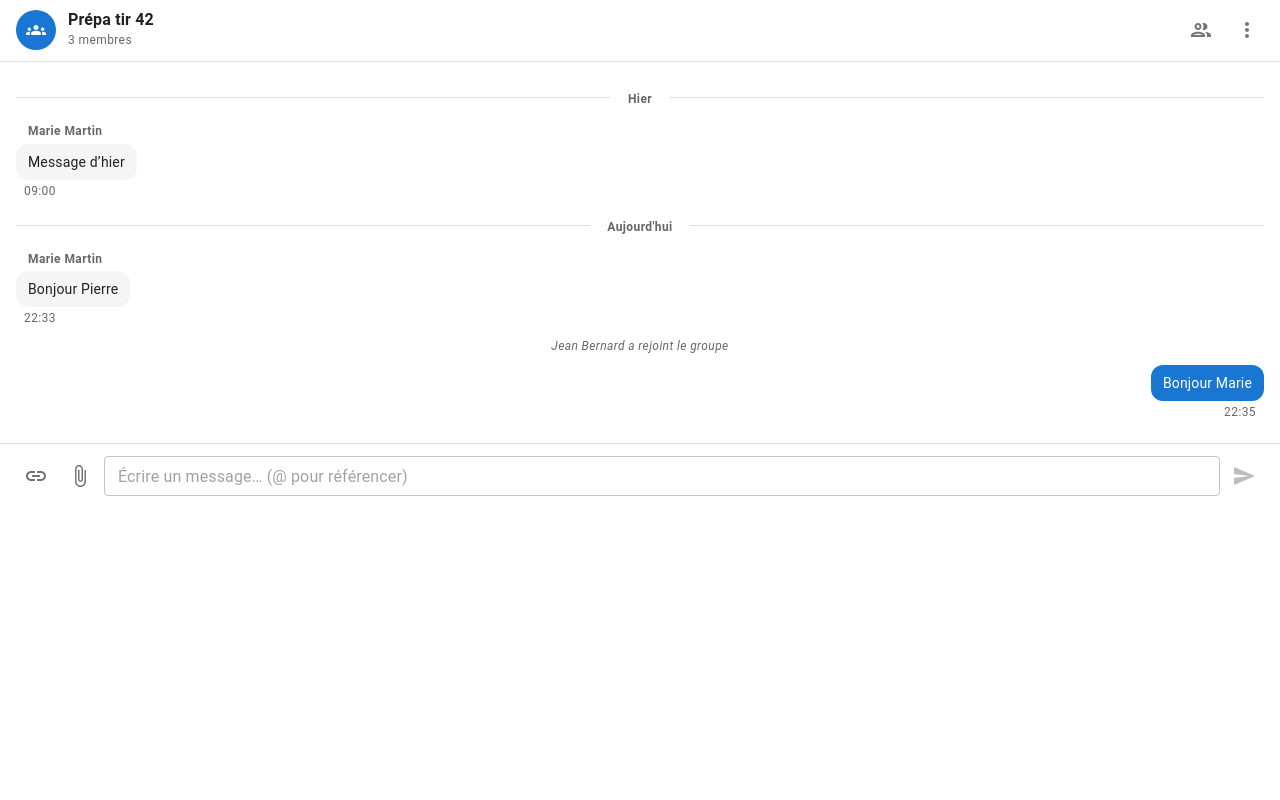
ConversationThread › annuler la suppression ne supprime rien
Click the button named "Actions de la conversation": (1247, 30) [1230,13,1264,47]
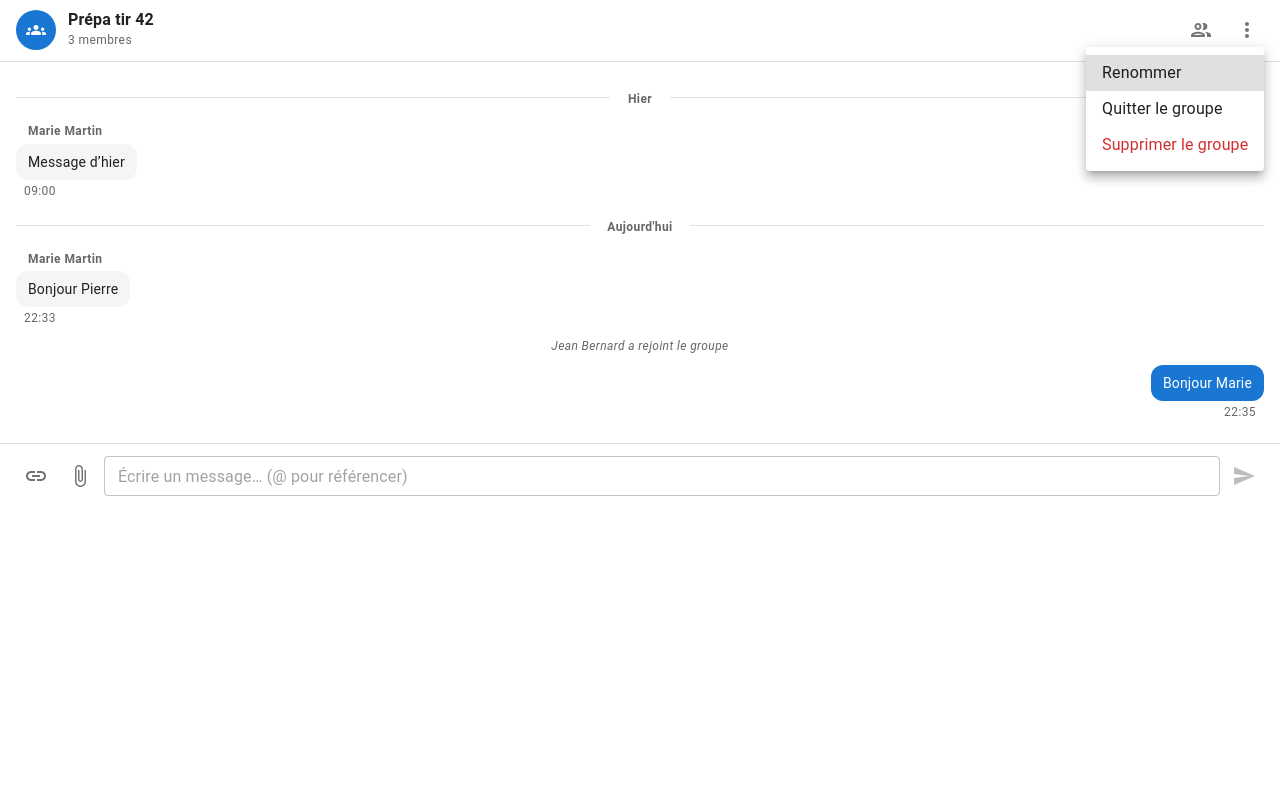
Click the menu item "Supprimer le groupe": (1175, 144) [1102,135,1248,154]
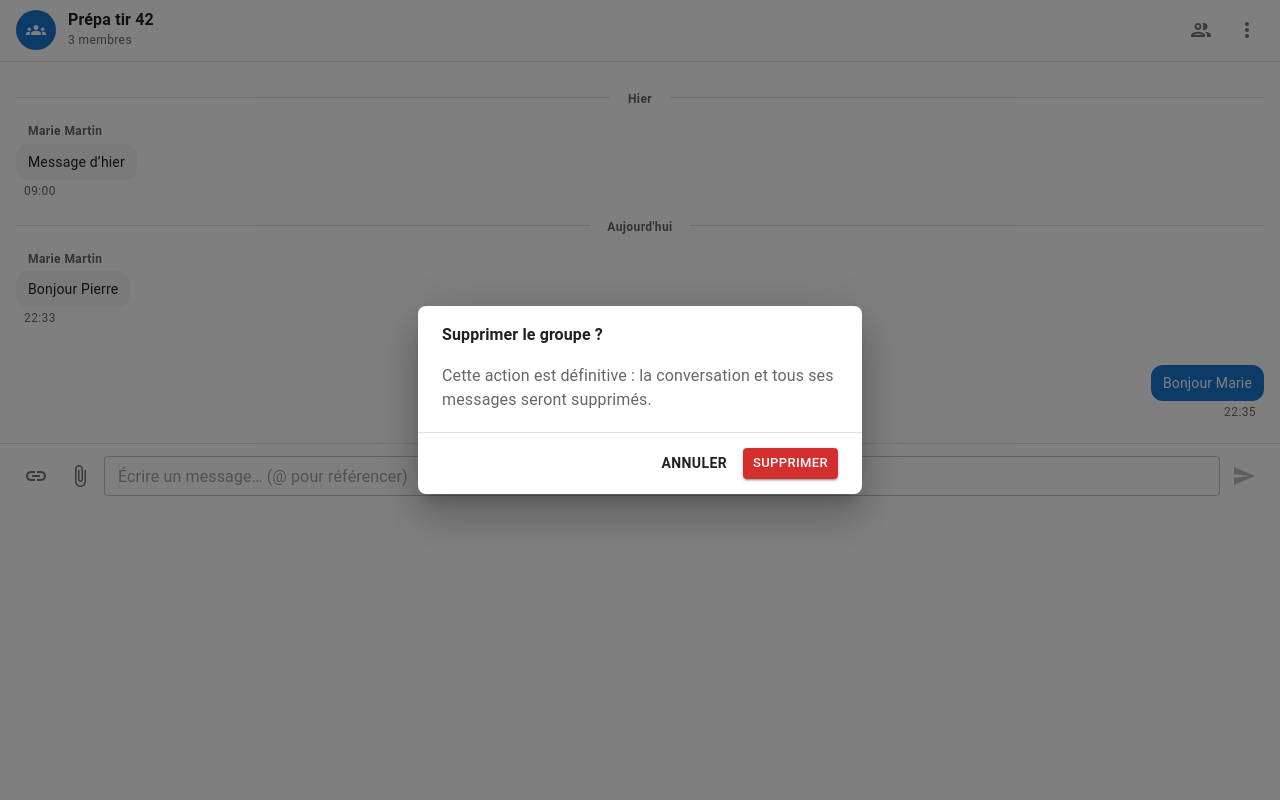
Click the button "Annuler": (694, 463) [653,445,735,482]
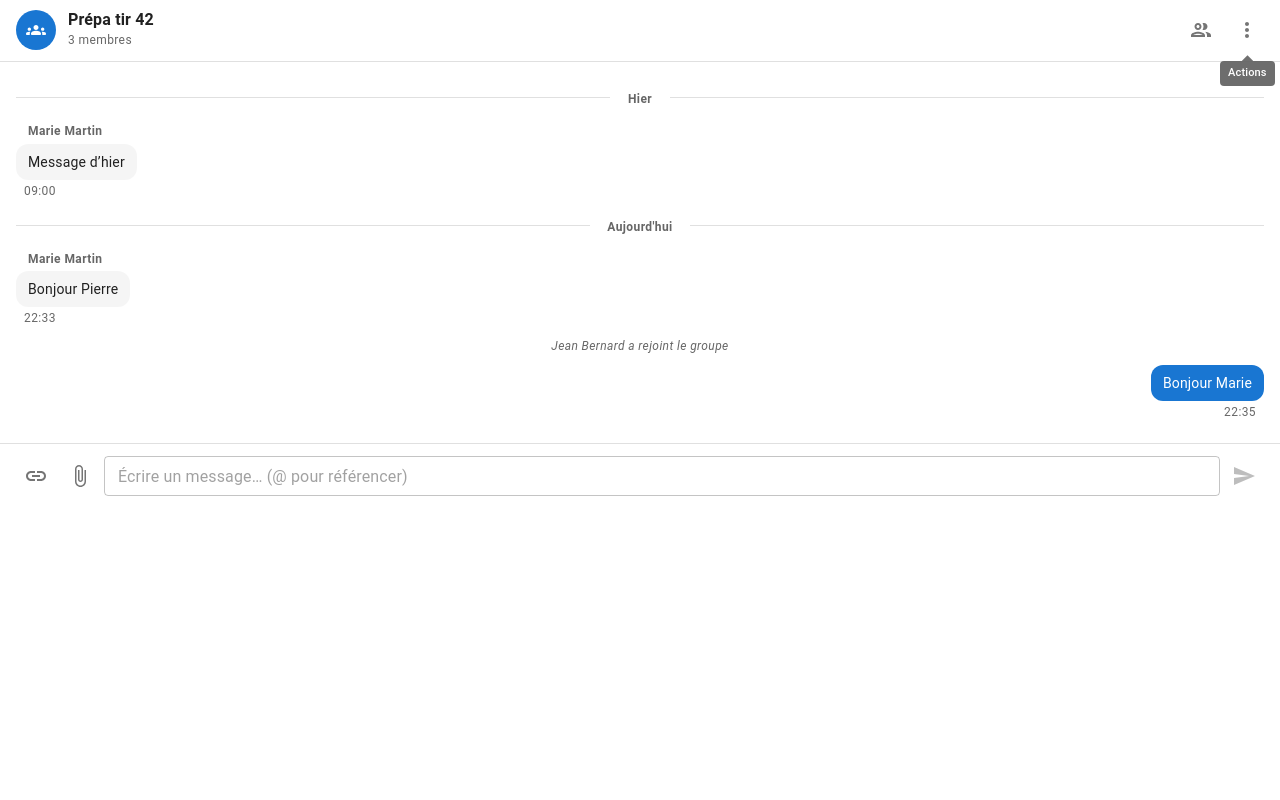
Expected: the heading "Supprimer le groupe ?" is gone
